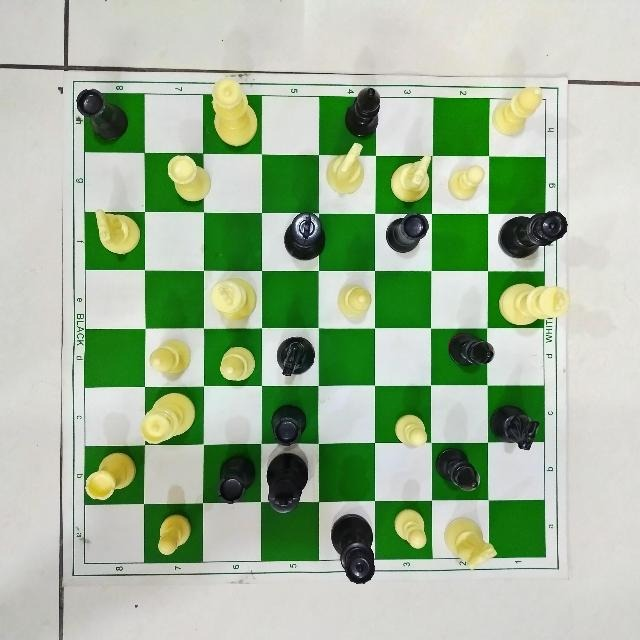black-bishop: (432, 441, 488, 496), (445, 323, 498, 375), (336, 84, 384, 139)
black-king: (265, 448, 313, 514), (279, 205, 331, 260)
black-knight: (486, 399, 541, 456), (272, 331, 320, 379)
black-queen: (325, 504, 387, 587), (498, 202, 570, 264)
black-rook: (72, 80, 136, 145), (211, 448, 259, 507), (268, 397, 314, 449), (383, 209, 433, 255)
white-bishop: (492, 77, 545, 142), (147, 331, 197, 381), (331, 279, 379, 327), (216, 334, 259, 386)
white-king: (491, 269, 575, 328), (205, 268, 258, 320)
white-knight: (445, 510, 502, 574), (91, 195, 144, 257), (386, 148, 438, 203), (324, 140, 372, 198)
white-pawn: (150, 511, 202, 561), (388, 403, 434, 455), (394, 500, 436, 555), (445, 159, 484, 207)
white-queen: (206, 74, 264, 146), (140, 386, 202, 448)
white-rook: (163, 148, 222, 207), (84, 451, 139, 503)
